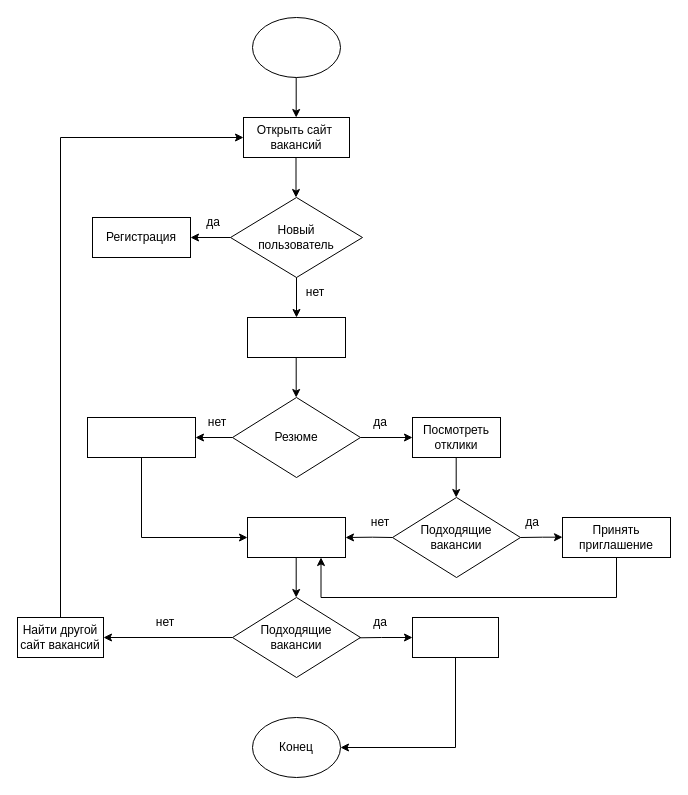
This 688x795 diagram has some shape labels left out. Here are the shapes that lost their labels. From the top down, the centre of each, then its label:
At (296,47): "Начало".
At (296,337): "Авторизация".
At (141,437): "Составить резюме".
At (296,537): "начать поиск на сайте".
At (455,637): "Откликнуться на вакансии".
